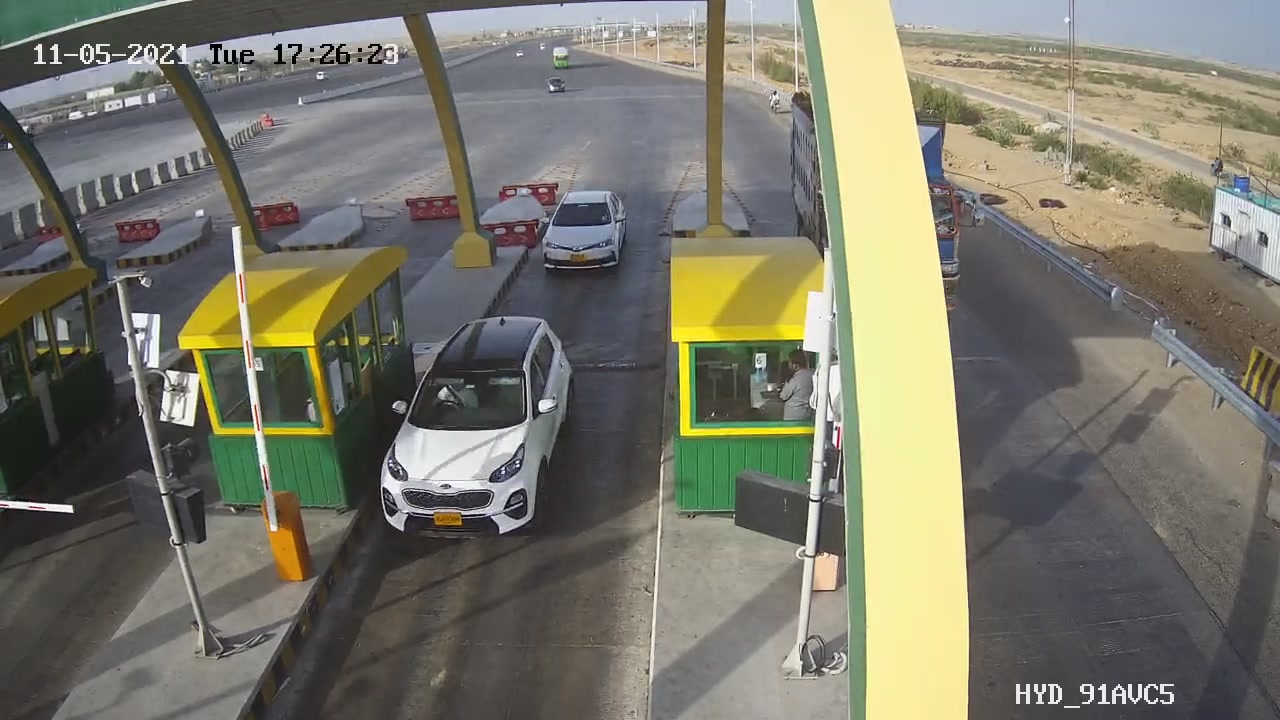F1: (351, 294, 592, 560), (525, 178, 644, 285)
